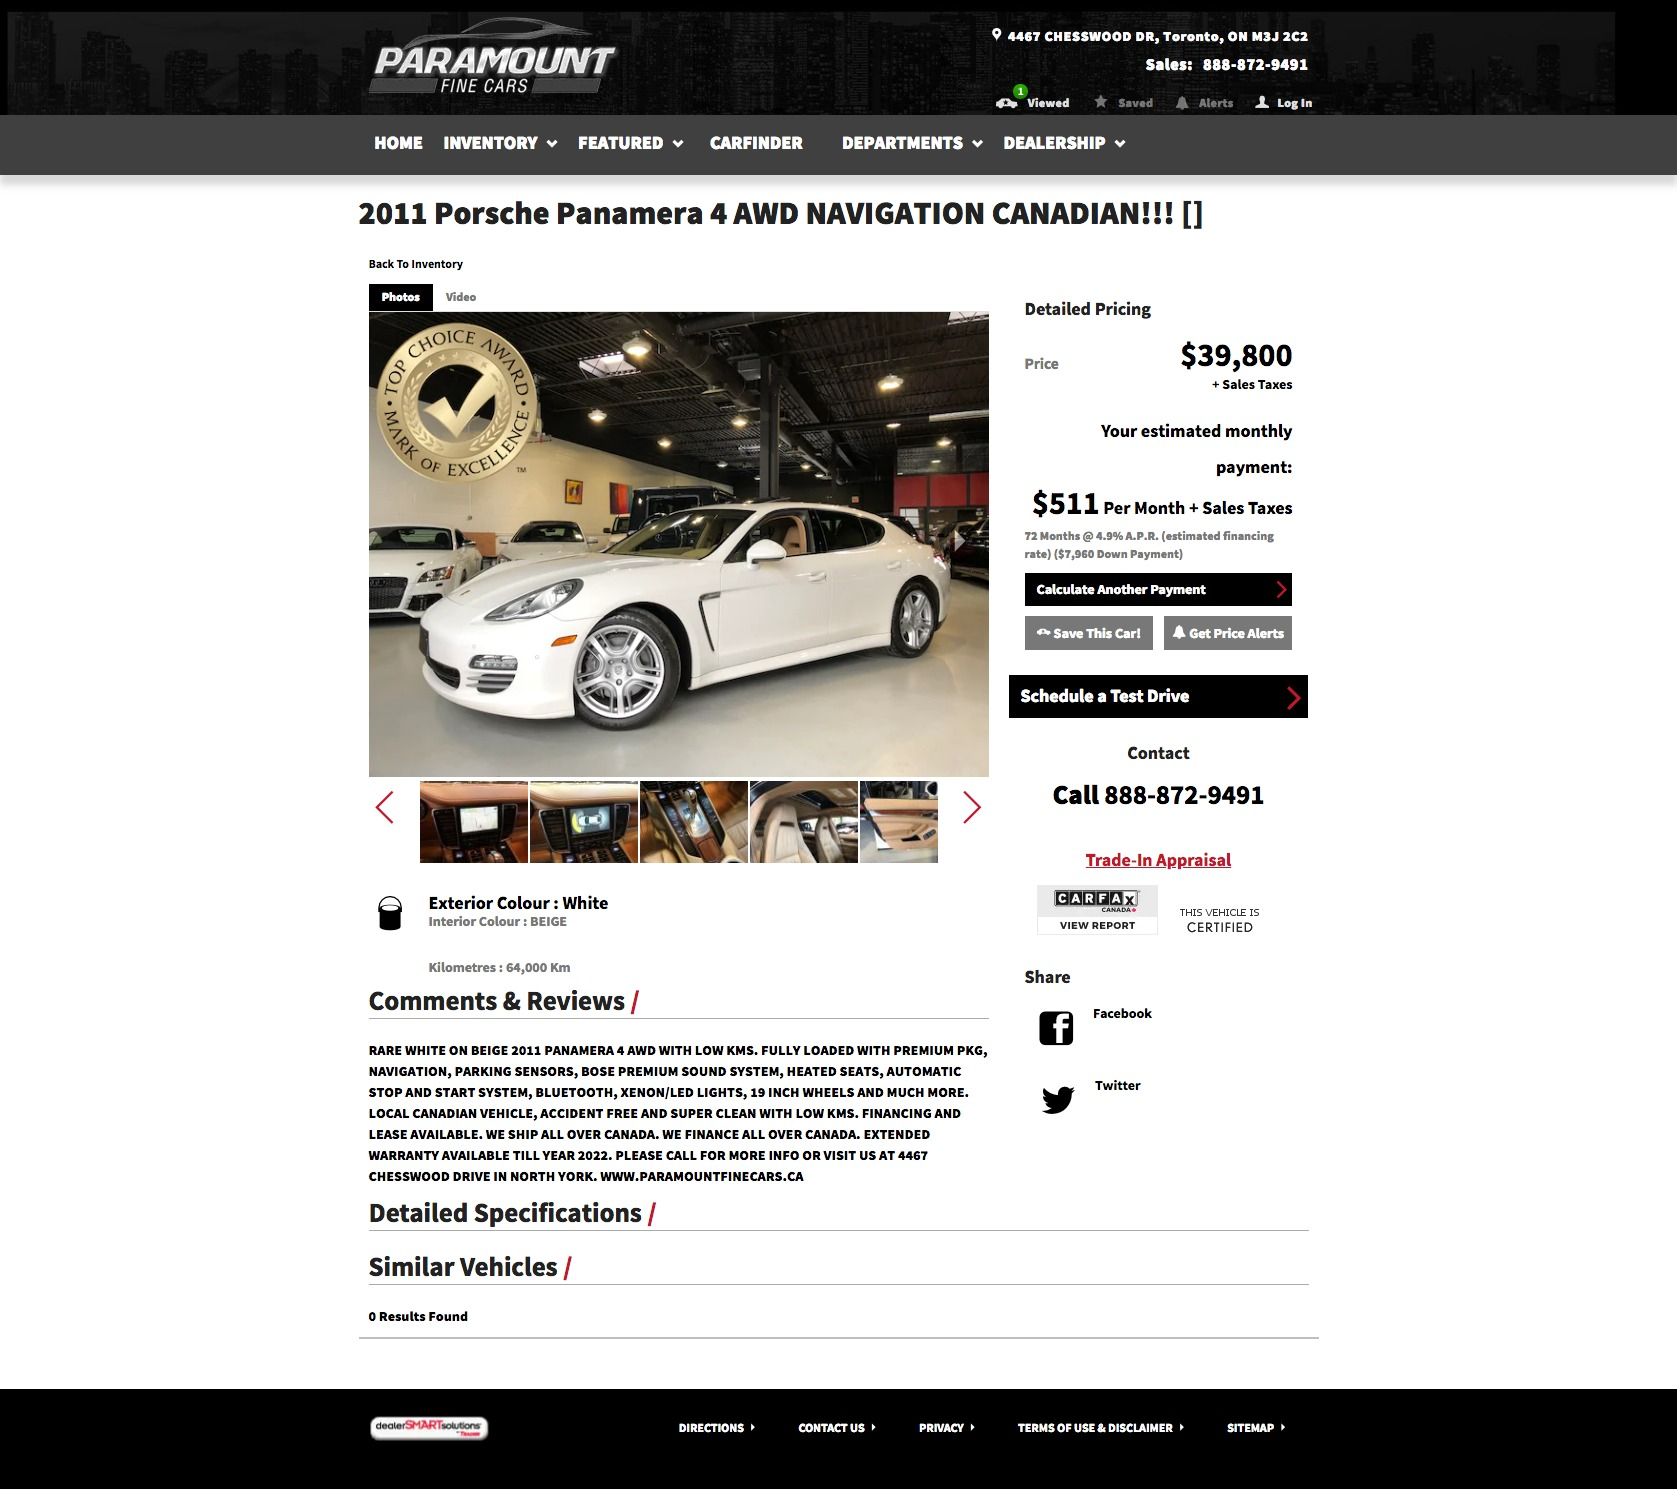car: (966, 789, 983, 826)
